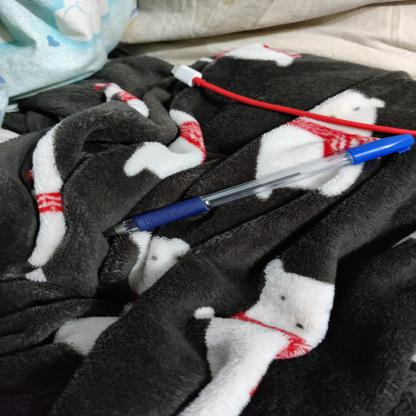pen: (103, 106, 399, 262)
